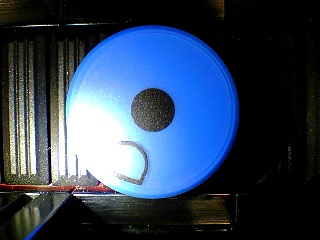BOHOMIPO1: (66, 25, 239, 199)
